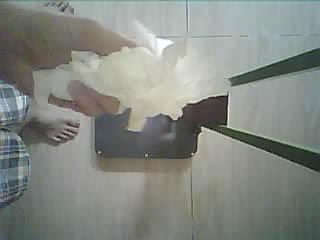paper: (33, 21, 229, 130)
